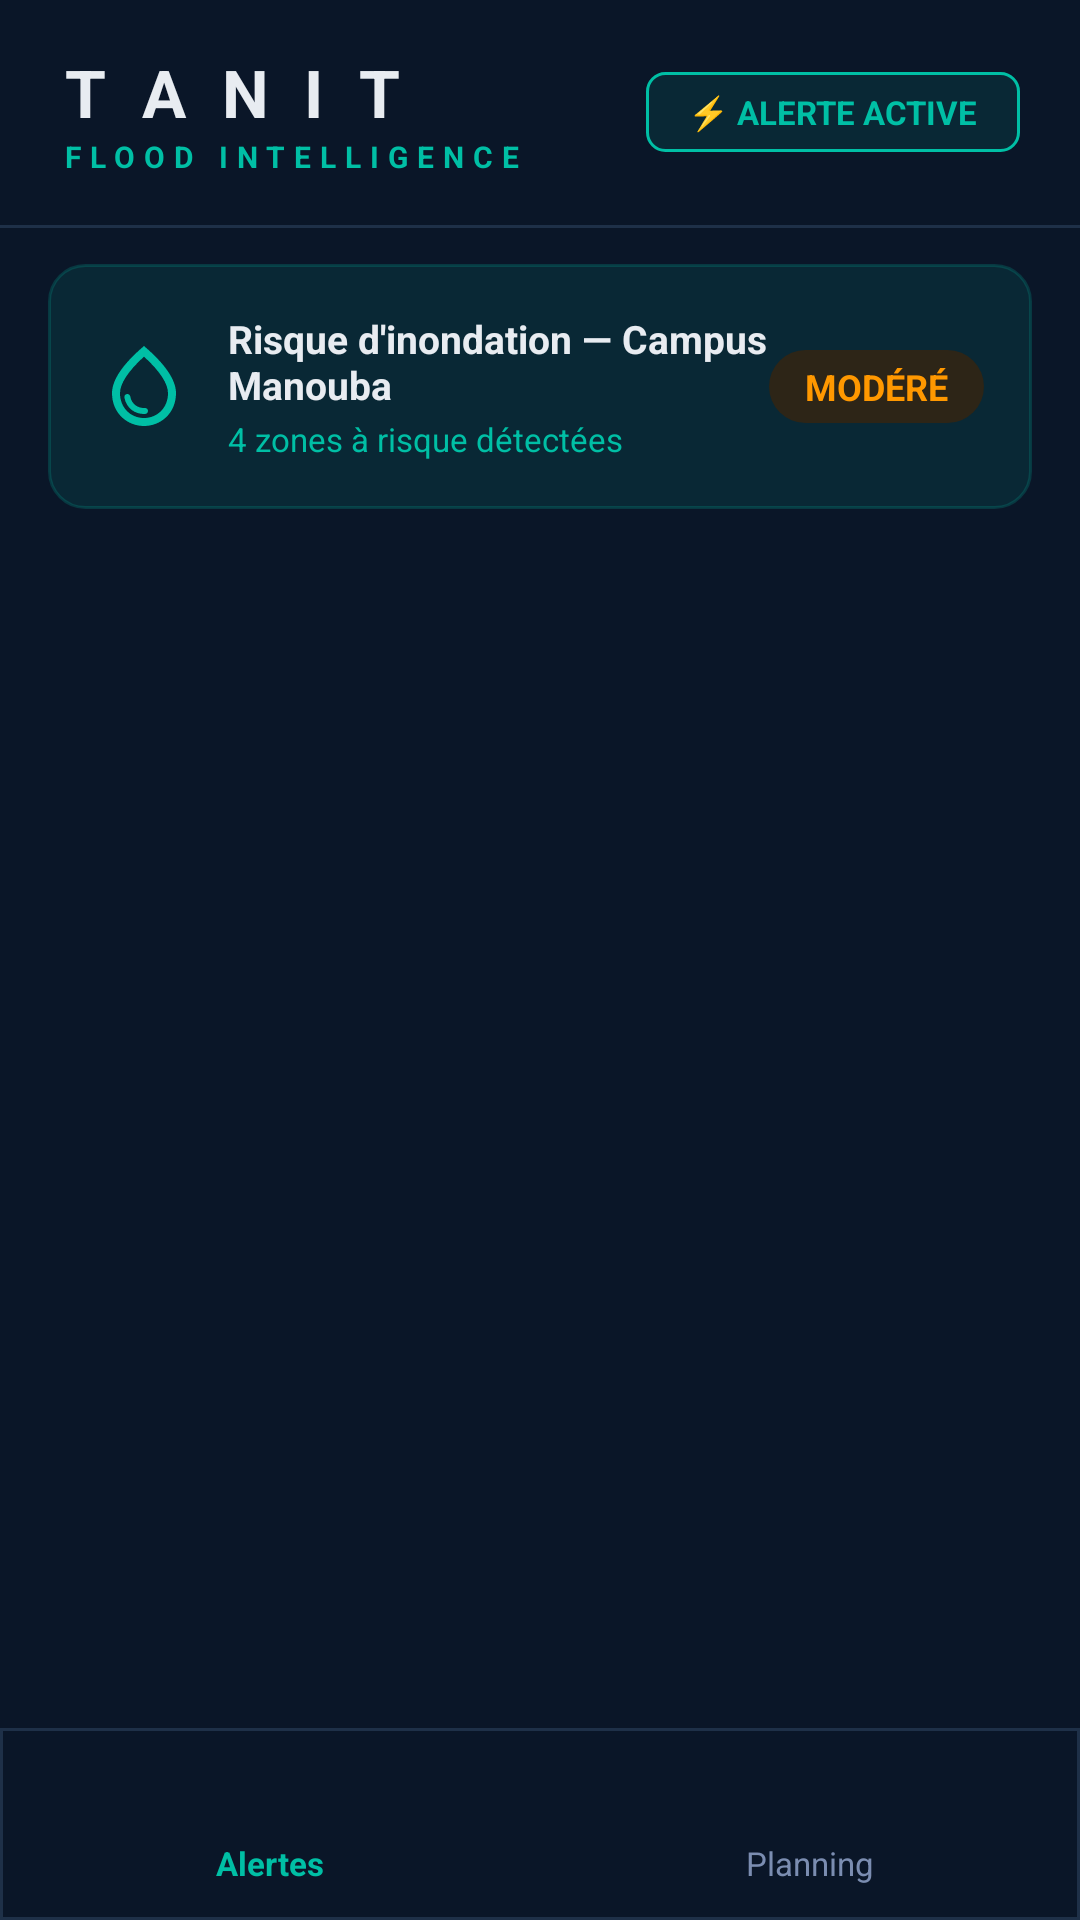

Icons on this 1080*1920 Android screen, each with its box as (x1, y1, x2, y2):
Flood risk: (112, 346, 176, 426)
